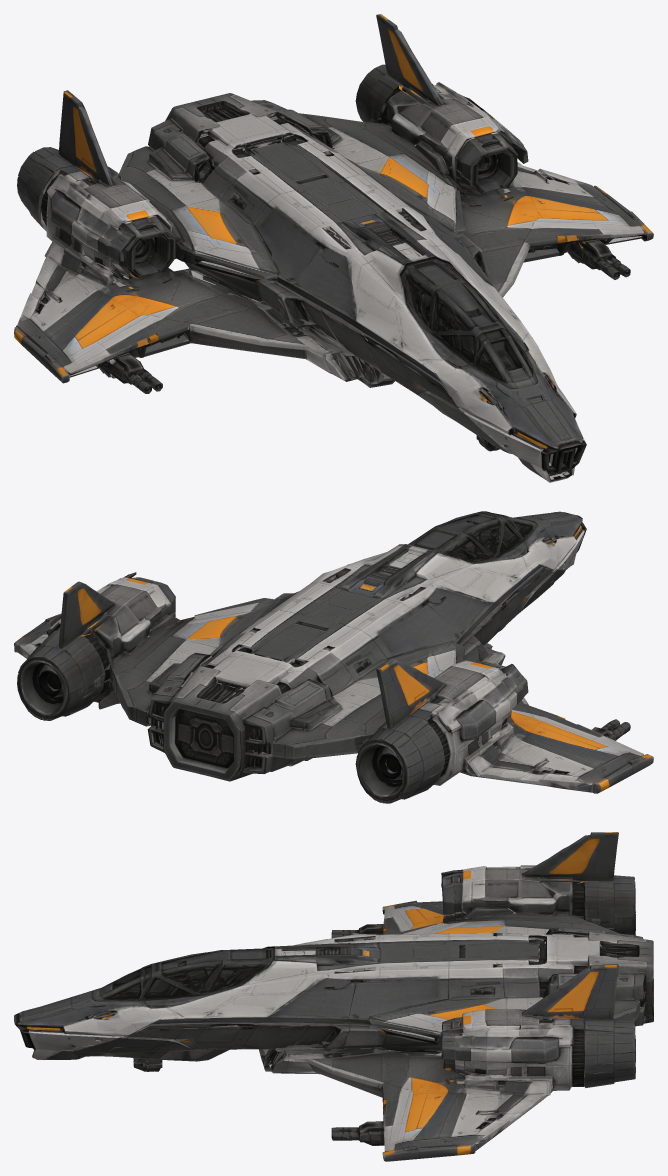
File: fighter-very-high.glb
3 renders of one model, top to bottom at view 1: azimuth 30°, elevation 25°; view 2: azimuth 150°, elevation 25°; view 3: azimuth 270°, elevation 25°, orthographic. The views are drawn at different scales.
Visible parts, largest first — view 1: Low; view 2: Low; view 3: Low.
Boxes of the visible parts, x1,y1,x2,y2 form: Low: [14, 14, 653, 482]; Low: [14, 511, 653, 803]; Low: [14, 832, 653, 1161].
Bounding box in the file's own units: 1.66 × 0.528 × 1.8.
Materials: 1 (1 with a texture image).
